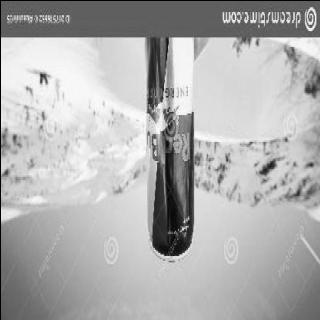alumunium_can: (143, 38, 194, 263)
